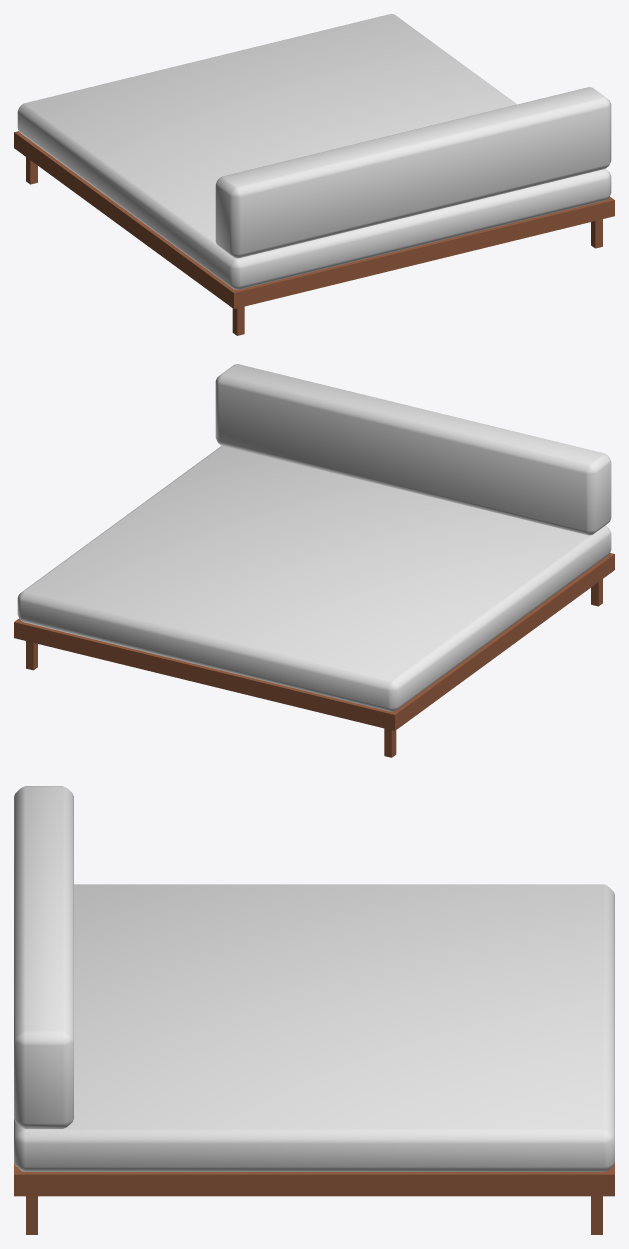
File: Llit.fbx
3 renders of one model, top to bottom at view 1: azimuth 30°, elevation 25°; view 2: azimuth 150°, elevation 25°; view 3: azimuth 270°, elevation 25°, orthographic. The views are drawn at different scales.
Visible parts, largest first — view 1: Cube.053; view 2: Cube.053; view 3: Cube.053.
Boxes of the visible parts, x1,y1,x2,y2 form: Cube.053: (14, 14, 614, 335); Cube.053: (14, 364, 614, 757); Cube.053: (14, 786, 614, 1234).
Size of the model in its own units: 10 by 3.75 by 10.
